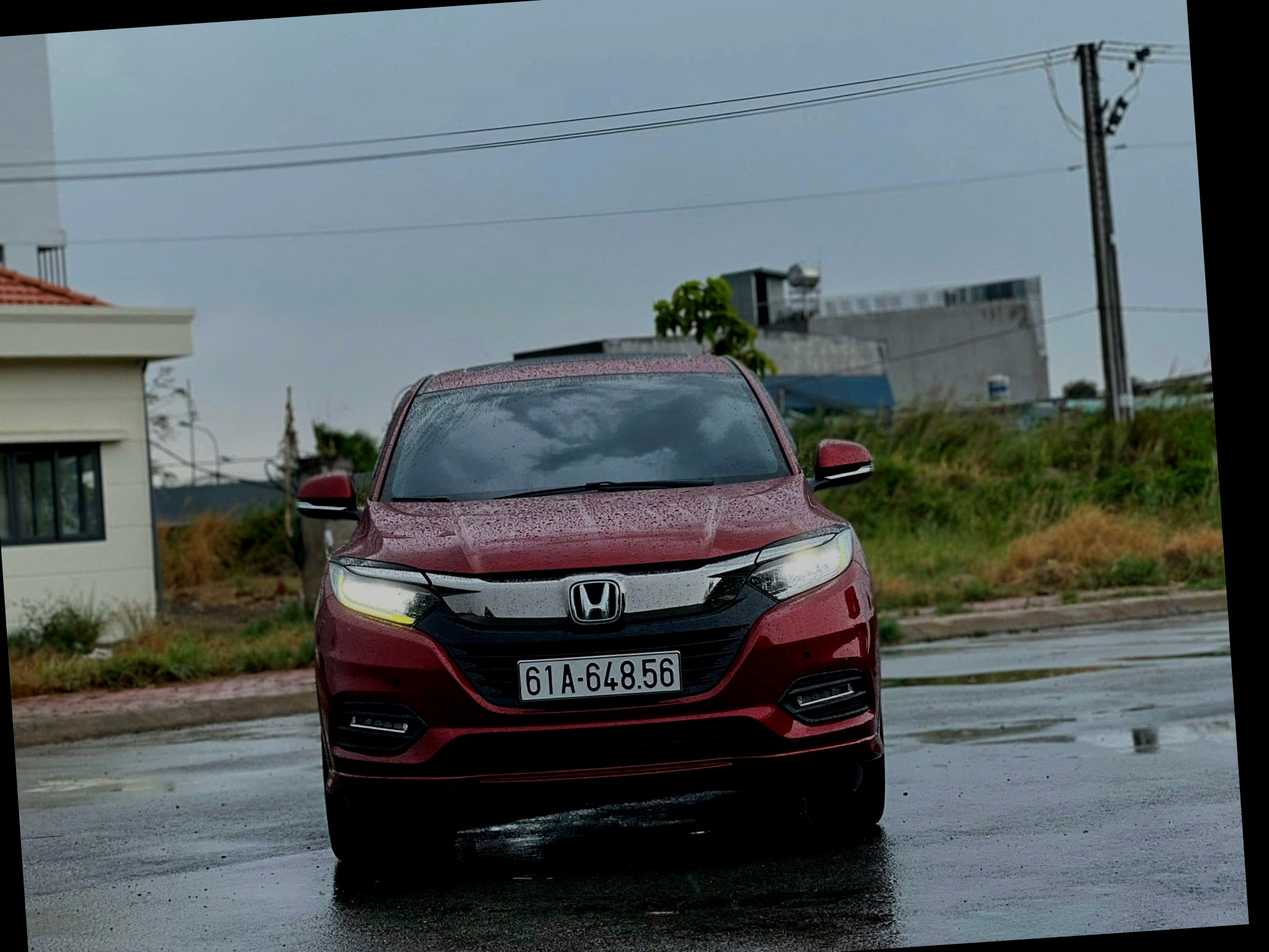Bien-so: (531, 647, 702, 690)
